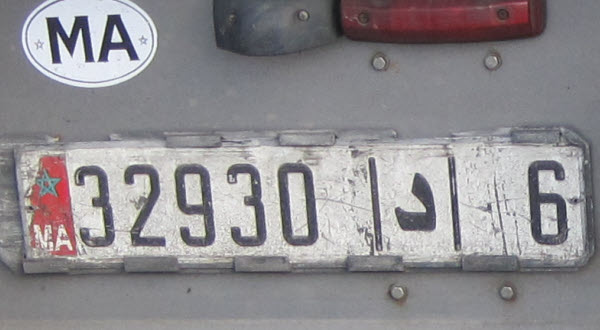number_plate: (11, 144, 587, 269)
